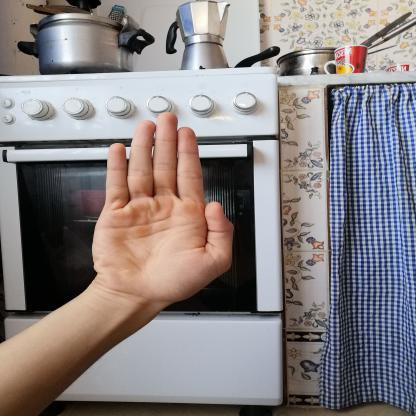SEEN: (79, 105, 242, 313)
